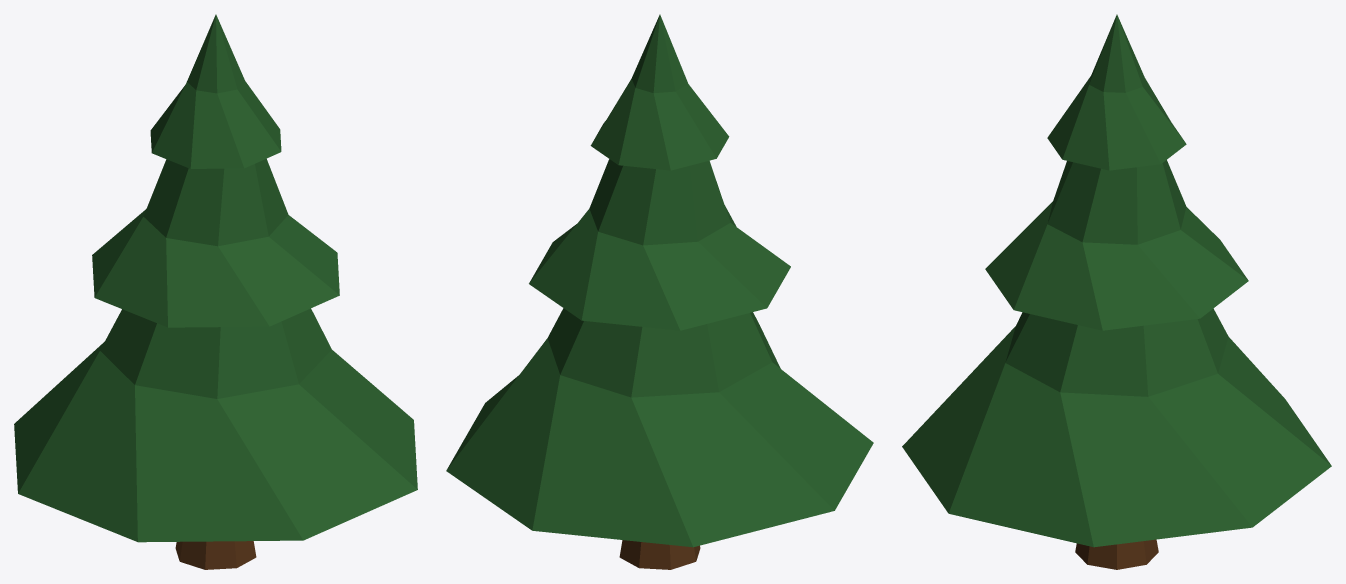
Rendered from Tree12.glb.
3 views of the same model, side by side, from view 1: azimuth 30°, elevation 25°; view 2: azimuth 150°, elevation 25°; view 3: azimuth 270°, elevation 25° (orthographic).
Visible parts, largest first — view 1: Tree1; view 2: Tree1; view 3: Tree1.
Part boxes in pixels (left/top/right/bottom): Tree1: left=14, top=14, right=417, bottom=569; Tree1: left=446, top=14, right=873, bottom=569; Tree1: left=902, top=14, right=1331, bottom=569.
Size of the model in its own units: 2.88 by 3.97 by 2.88.
